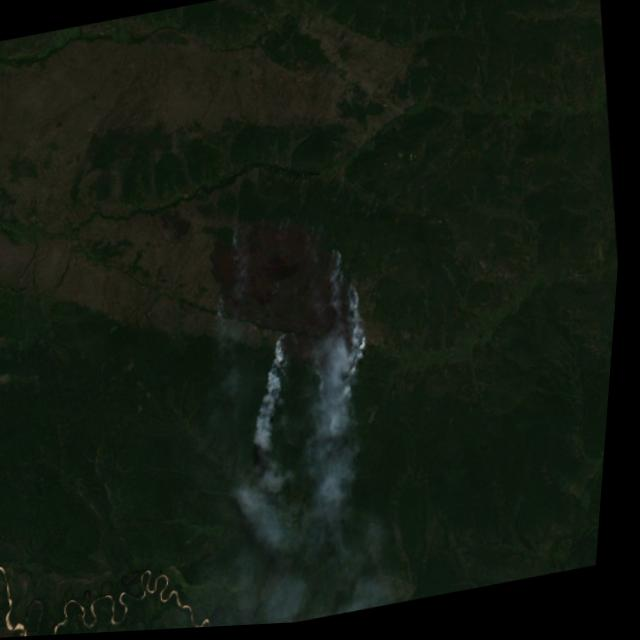fire: (264, 239, 384, 397), (211, 285, 242, 326), (229, 219, 260, 258)
